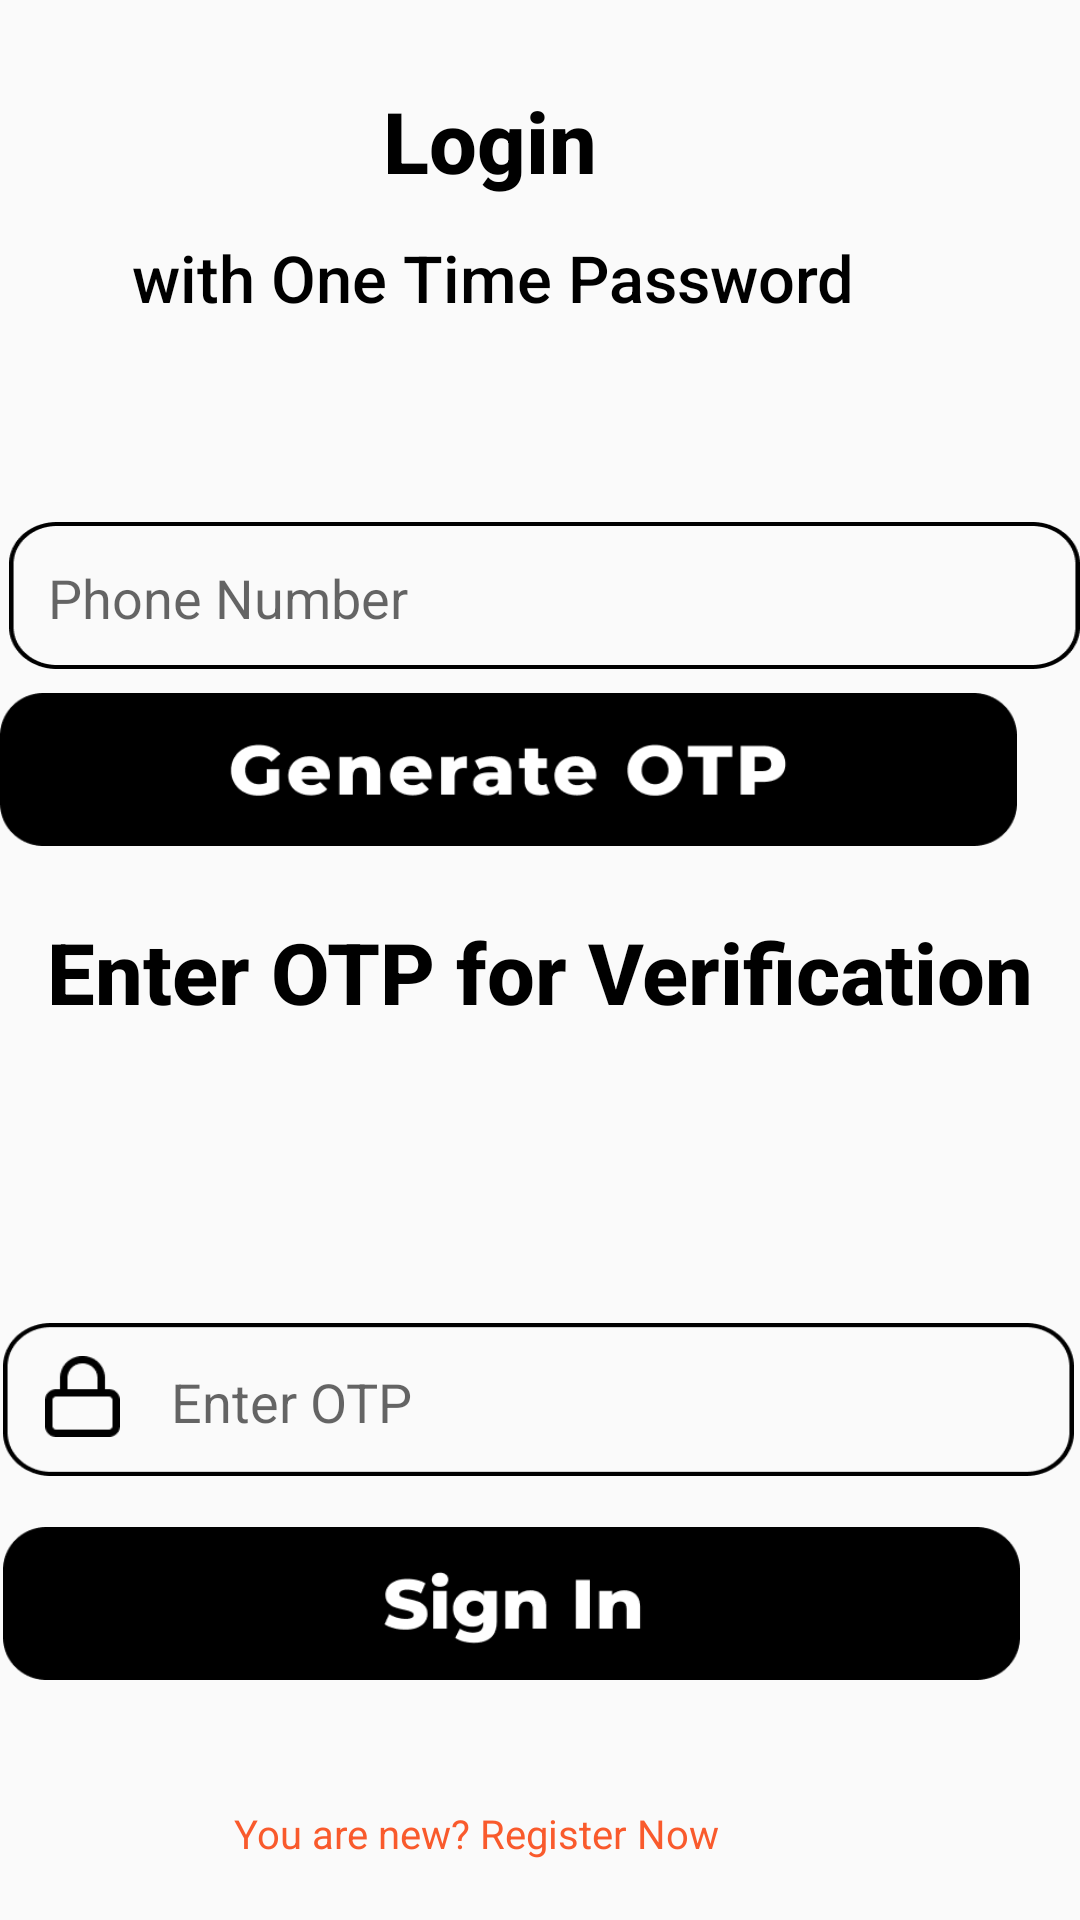

Named icons in this screenshot (1080x1920) and their bounding boxes, (x1, y1, x2, y2):
password: (45, 1356, 120, 1437)
